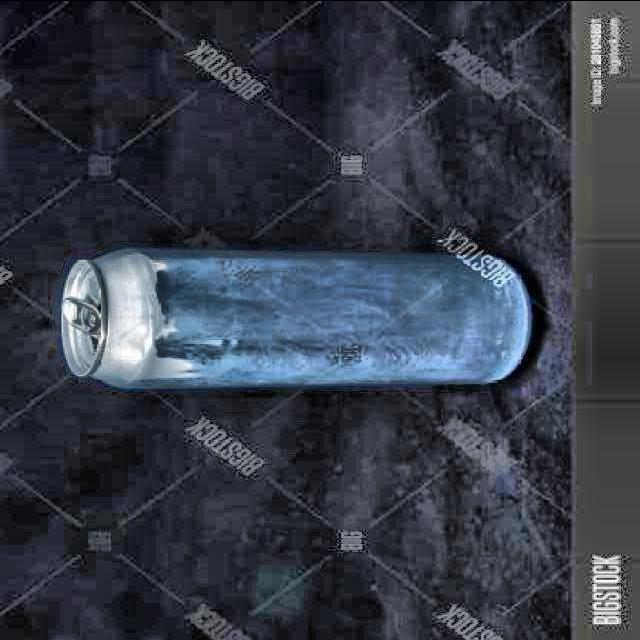litter: (51, 245, 539, 394)
